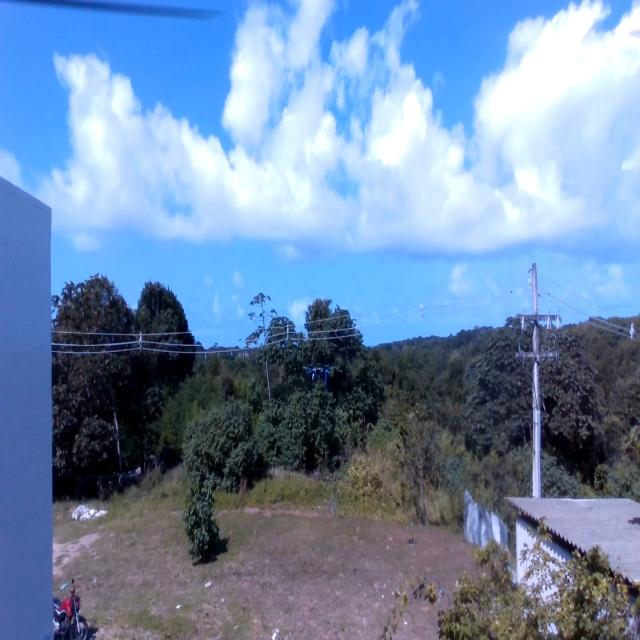-uav-: (301, 350, 338, 406)
